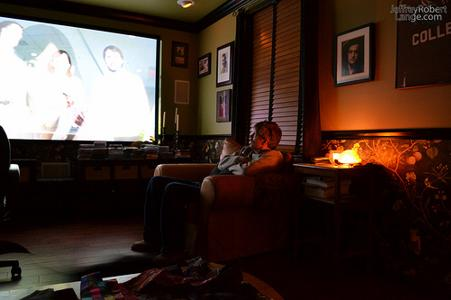person: (132, 120, 282, 252)
